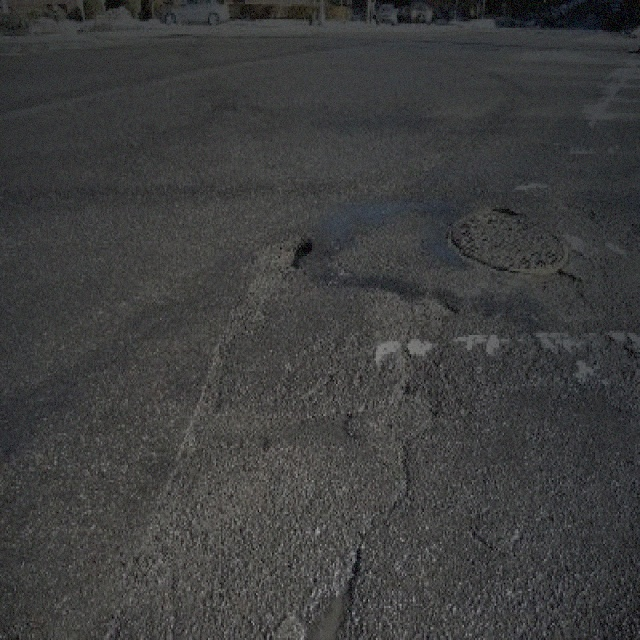pothole: (294, 550, 364, 638), (260, 232, 314, 271)
